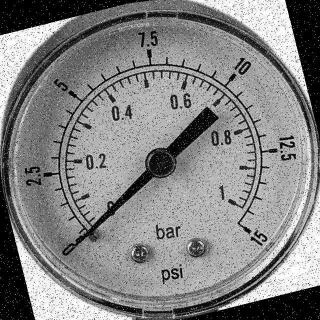gauge: (0, 0, 320, 320), (141, 142, 180, 182), (58, 224, 94, 263), (228, 208, 262, 248), (69, 238, 83, 250)
